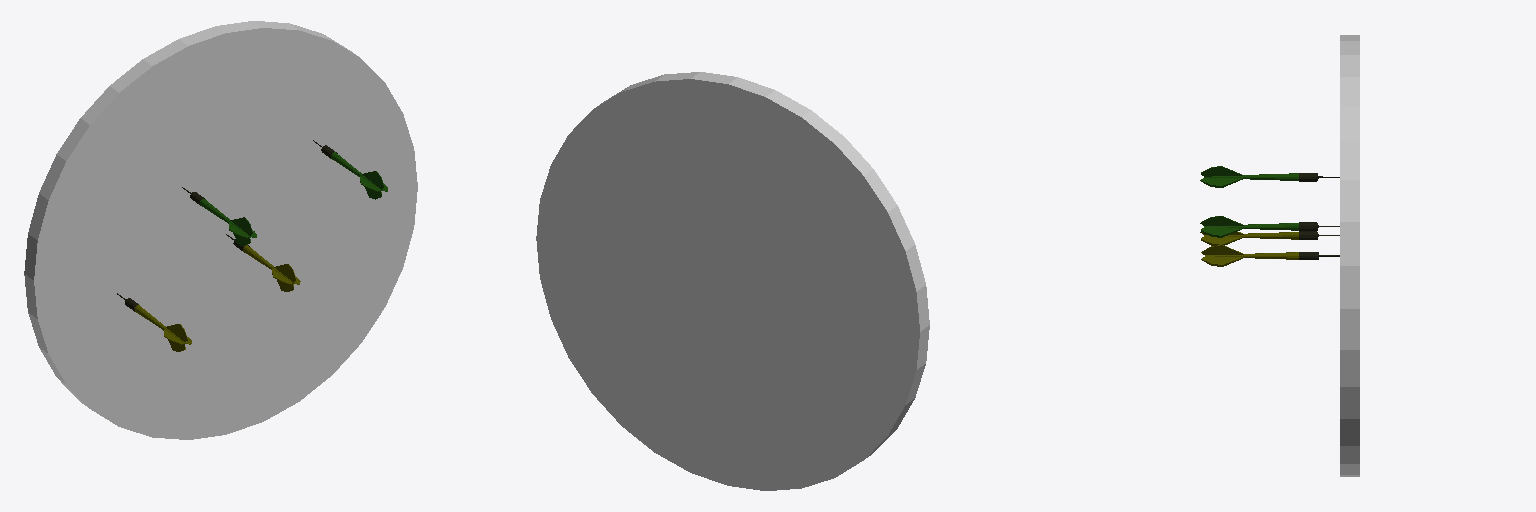
File: dart_game.obj
3 renders of one model, left to right at view 1: azimuth 30°, elevation 25°; view 2: azimuth 150°, elevation 25°; view 3: azimuth 270°, elevation 25°, orthographic.
Parts seen in each view (by area): view 1: Cylinder, Cylinder.003, Cylinder.004, Cylinder.002, Cylinder.001; view 2: Cylinder; view 3: Cylinder, Cylinder.004, Cylinder.001, Cylinder.002, Cylinder.003.
Part boxes in pixels (x1,y1,x2,y2): Cylinder: (24, 21, 417, 439); Cylinder.003: (117, 293, 191, 351); Cylinder.004: (182, 187, 256, 245); Cylinder.002: (313, 140, 387, 199); Cylinder.001: (226, 234, 300, 291); Cylinder: (536, 72, 929, 490); Cylinder: (1340, 35, 1359, 476); Cylinder.004: (1200, 166, 1339, 187); Cylinder.001: (1201, 245, 1339, 266); Cylinder.002: (1200, 216, 1339, 237); Cylinder.003: (1200, 231, 1339, 245).
Bounding box in the file's own units: 45.3 × 45.3 × 16.26.